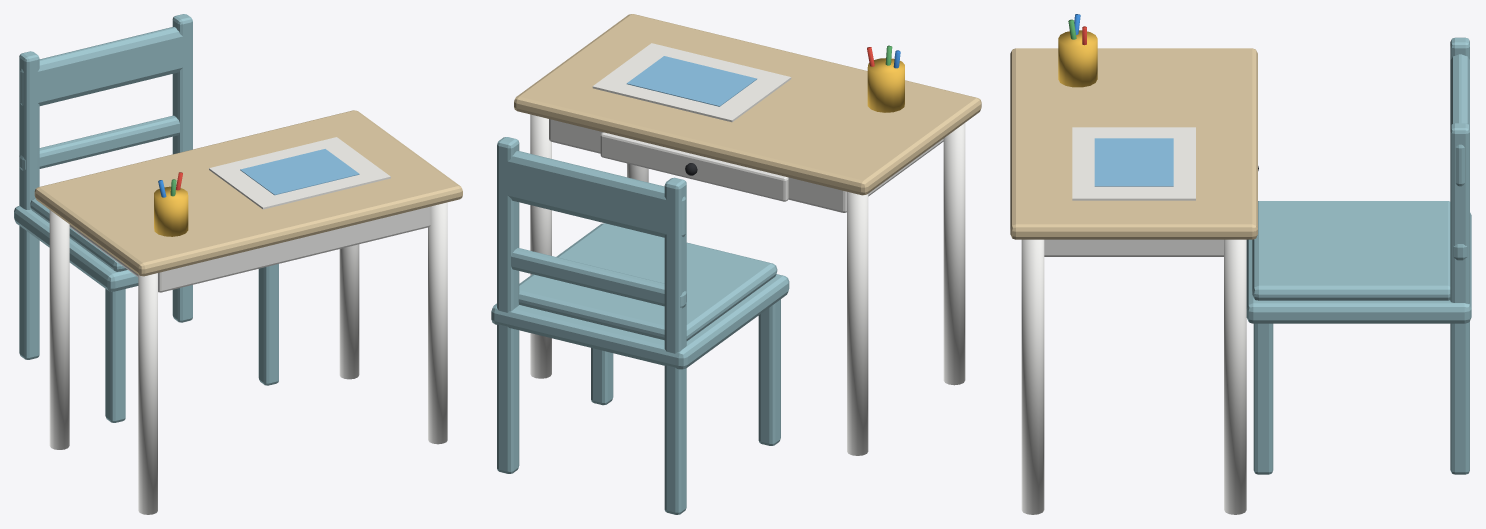
The model's file is kidsDesk.glb.
3 renders of one model, left to right at view 1: azimuth 30°, elevation 25°; view 2: azimuth 150°, elevation 25°; view 3: azimuth 270°, elevation 25°, orthographic. The views are drawn at different scales.
Visible parts, largest first — view 1: body; view 2: body, drawer; view 3: body.
Boxes of the visible parts, x1,y1,x2,y2 form: body: (14,14,462,514); body: (491,14,981,514); drawer: (600,132,788,201); body: (1010,14,1471,514).
Size of the model in its own units: 0.76 by 0.691 by 0.82.
